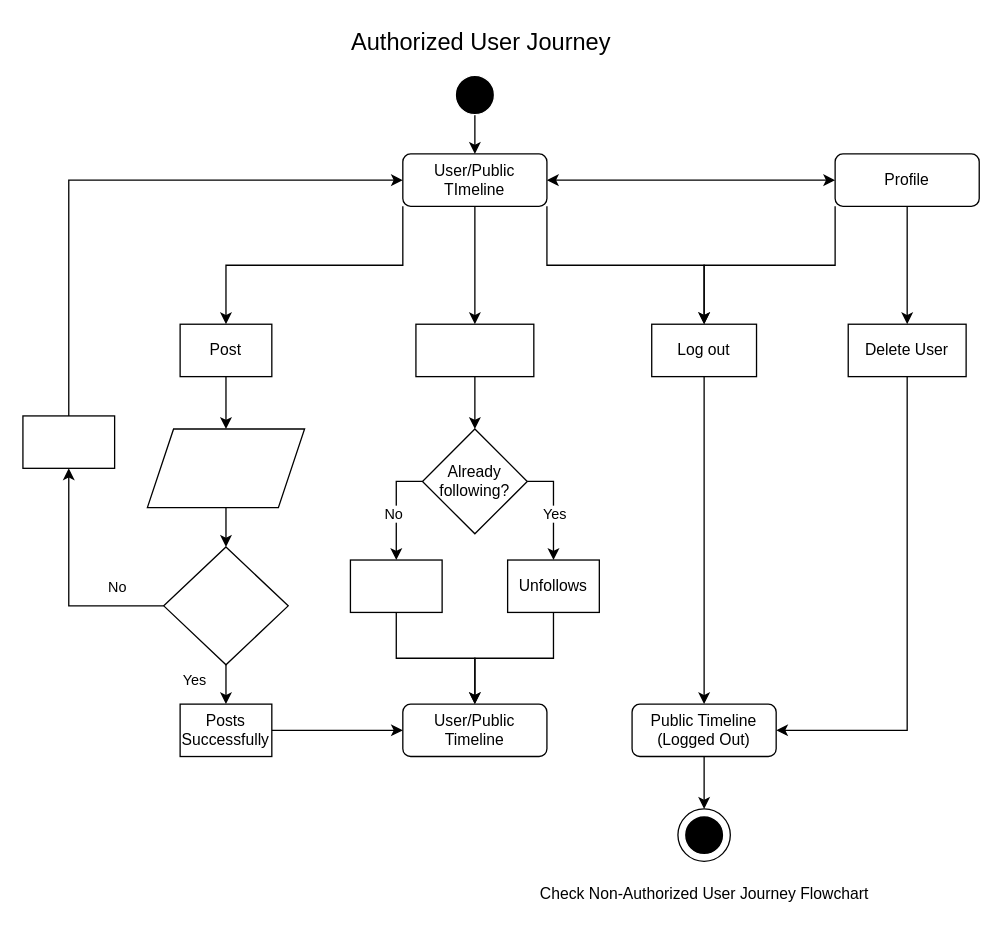
Image size: 1002x935. Some labels were removed from this diagram. The shapes that lost their labels are listed below. From the top down, each one's box as (x1, y1, x2, y2) in pixels, then its label:
(415, 323, 534, 377): Follow/Unfollow
(22, 415, 115, 468): Throws error
(146, 428, 305, 508): Post text
(162, 546, 288, 665): Text Eligible
(349, 559, 442, 612): Follows
